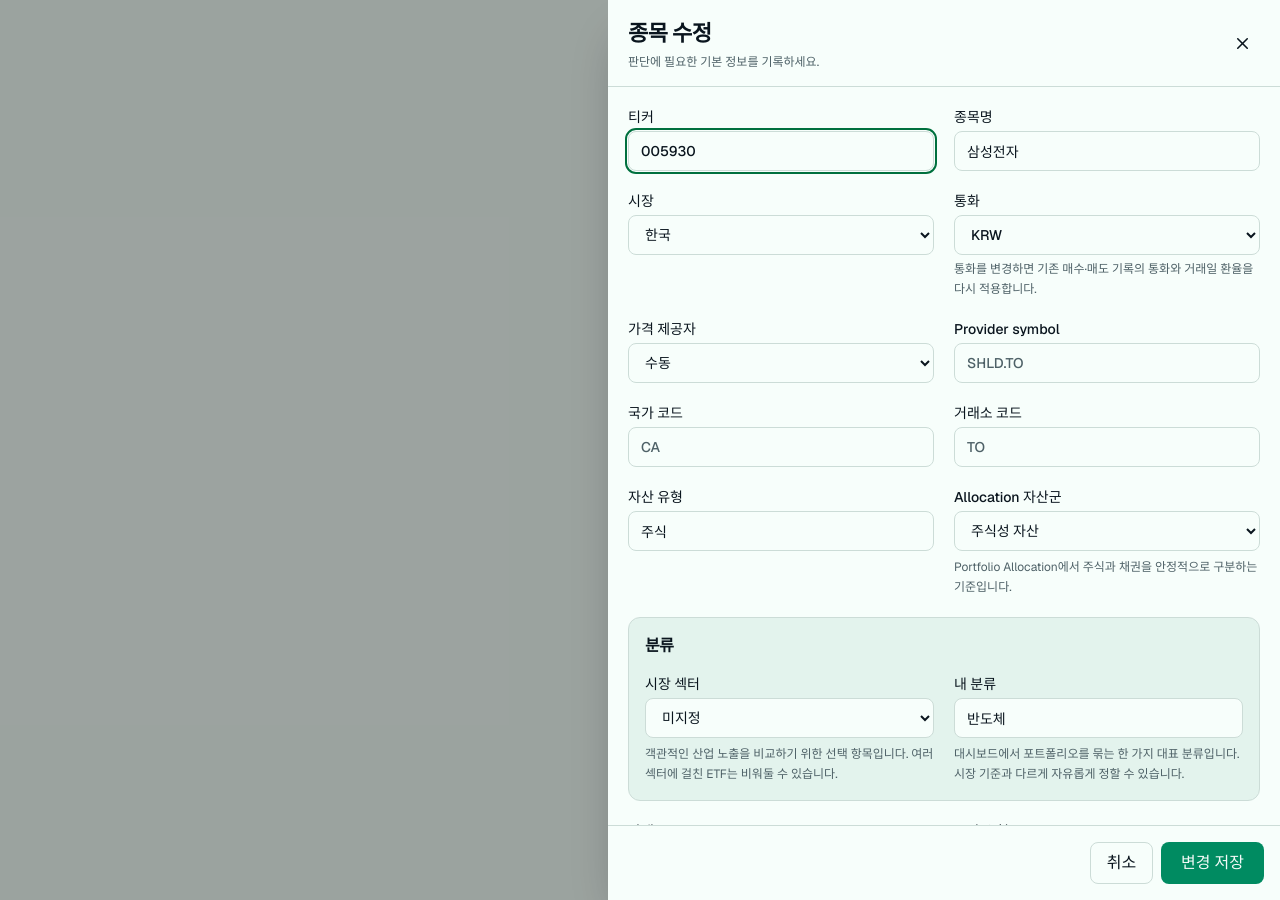
Test: StockForm › 통화 변경 확인을 취소하면 저장하지 않는다
Select "USD" in the dropdown labelled "통화" at (1107, 235), box [954, 215, 1260, 255]
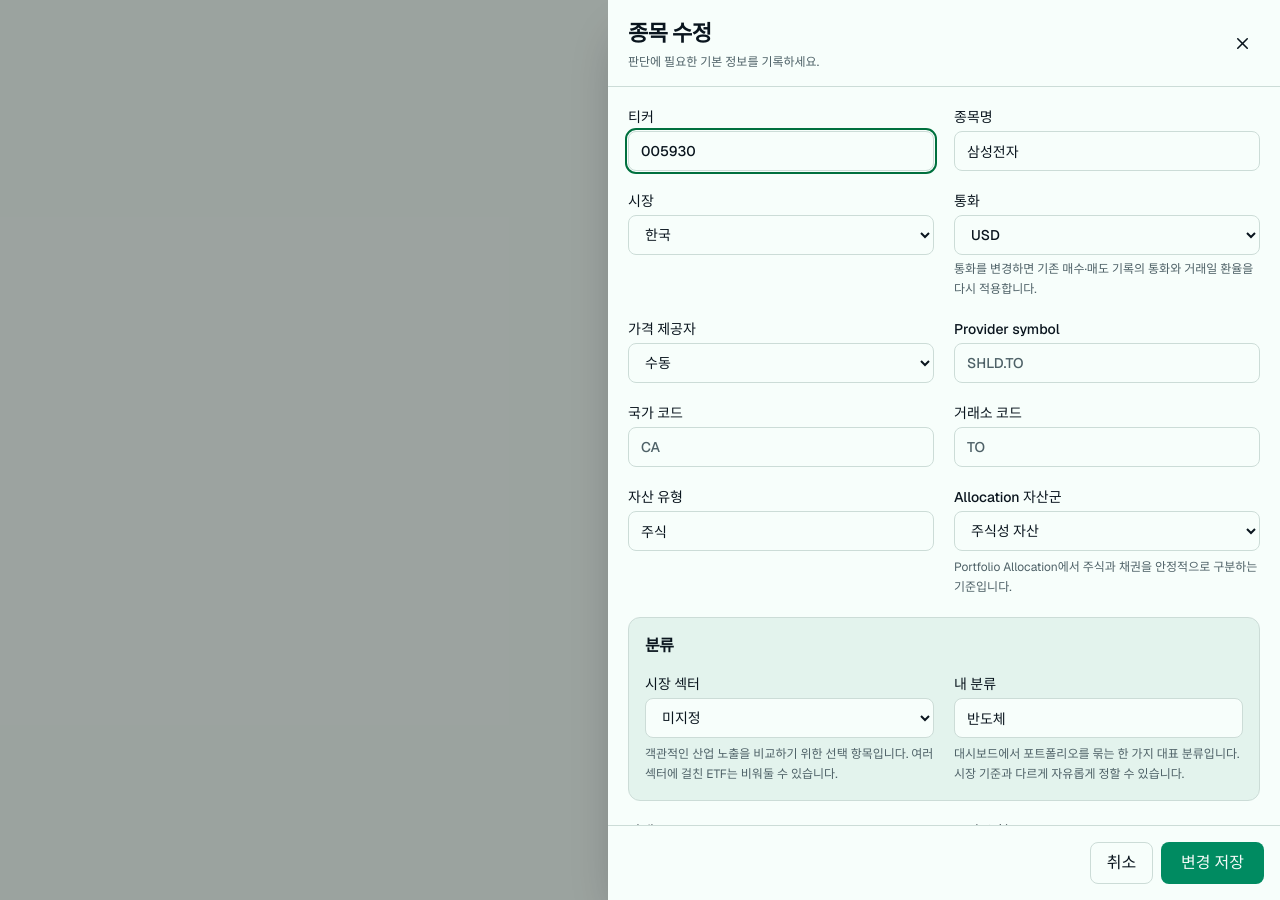
Click the button "변경 저장" at (1213, 863), box [1161, 842, 1264, 884]
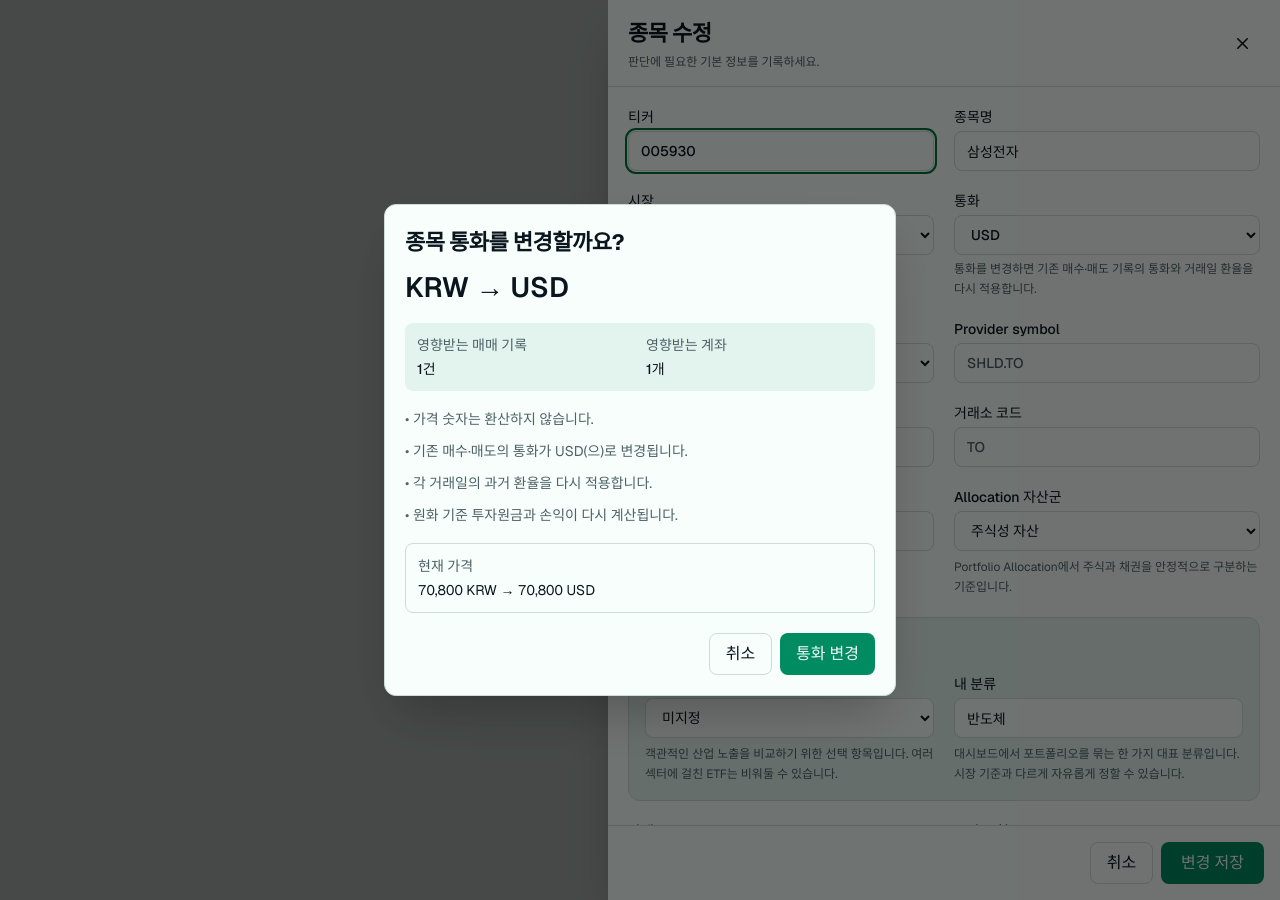
Check: the dialog "종목 통화를 변경할까요?" is shown
Click the button "취소" at (740, 654), box [709, 633, 772, 675]
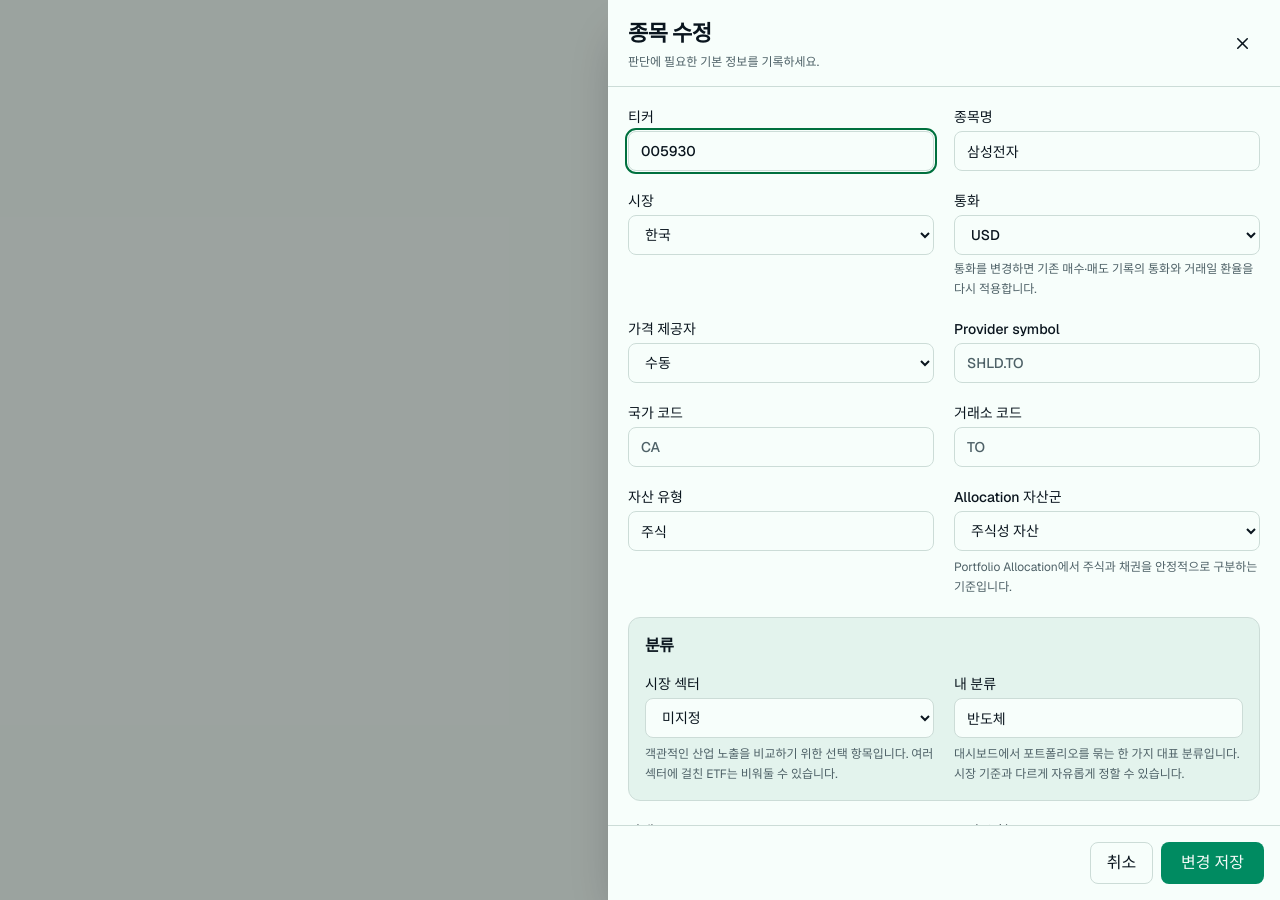
Check: the heading "종목 통화를 변경할까요?" is gone
